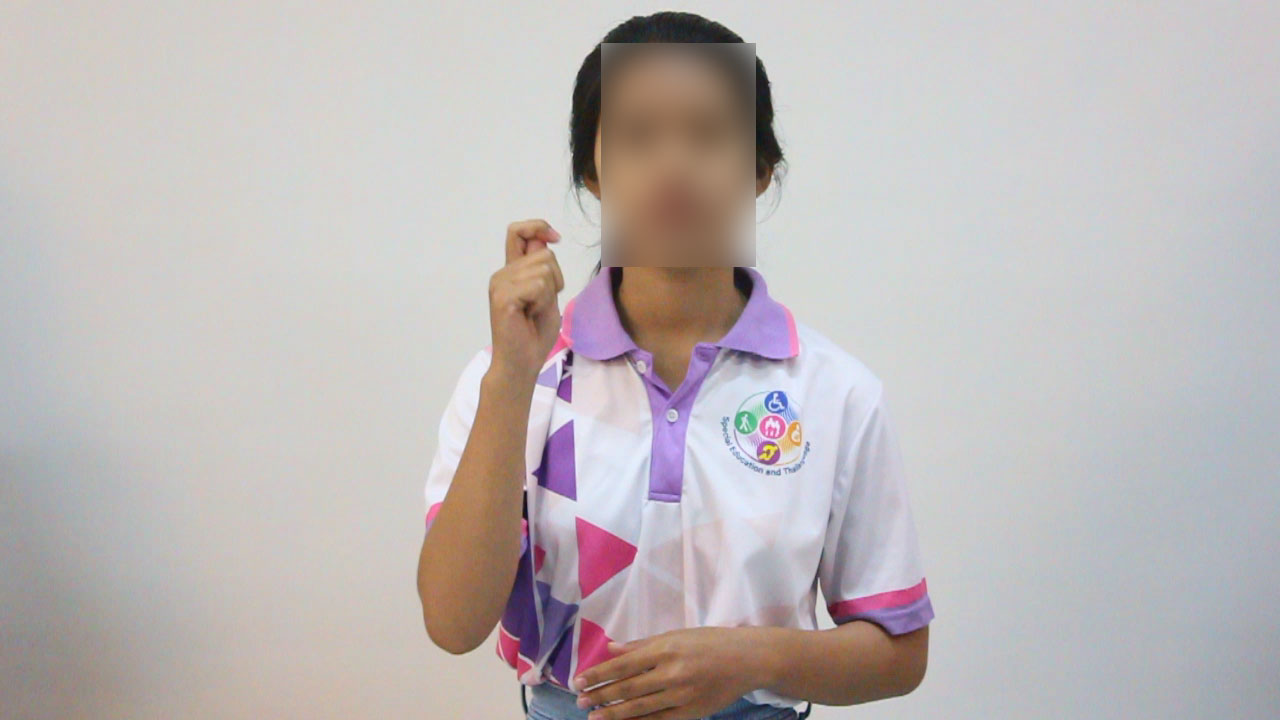or: (483, 213, 572, 381)
